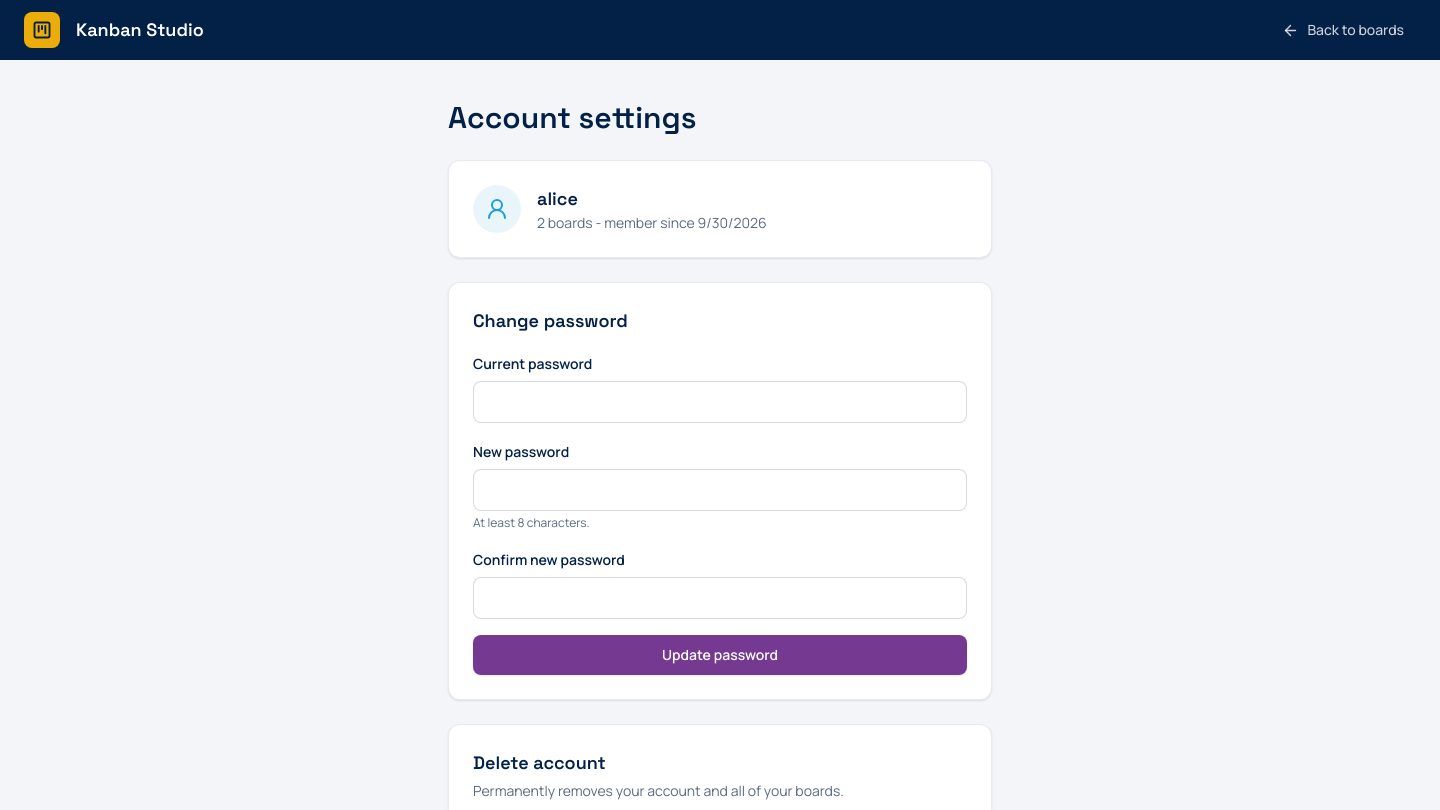
Test: AccountSettings › explains an incorrect current password
Expected: the text "alice" is shown, [537,187,578,210]
Type "wrong-password" into the password field labelled "Current password" at (720, 402), box [473,381,967,423]
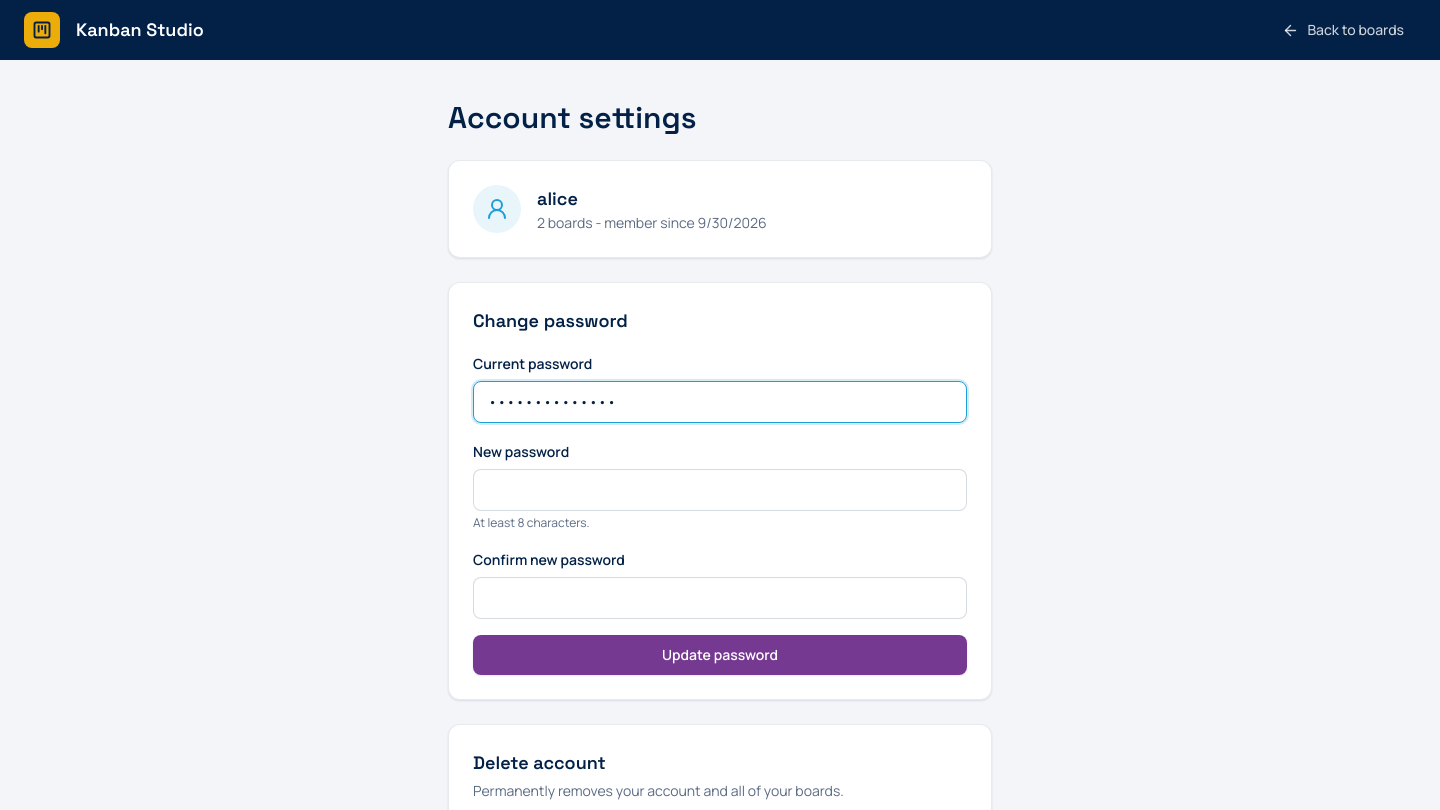
Type "new-password" into the password field labelled "New password" at (720, 490), box [473,469,967,511]
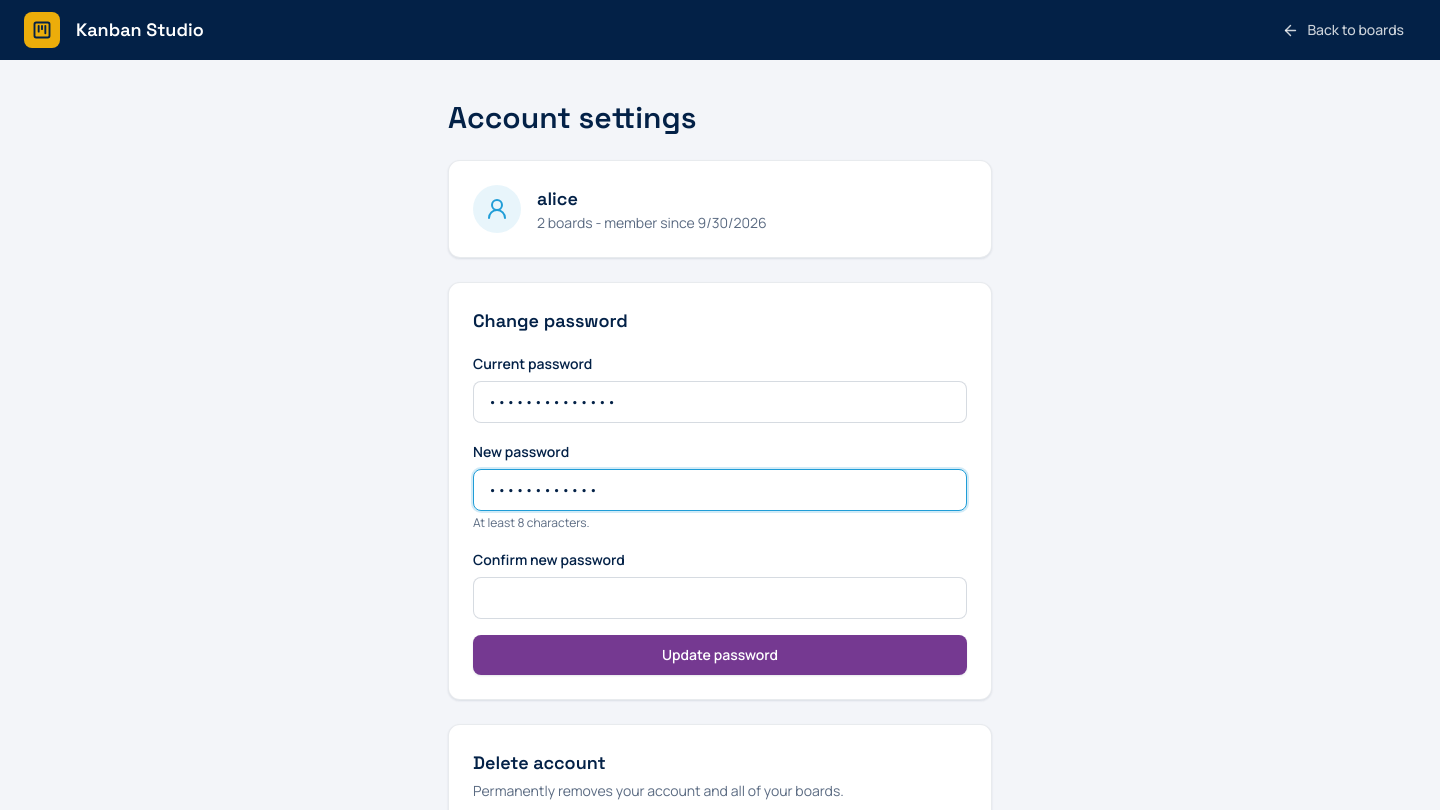
Type "new-password" into the password field labelled "Confirm new password" at (720, 598), box [473,577,967,619]
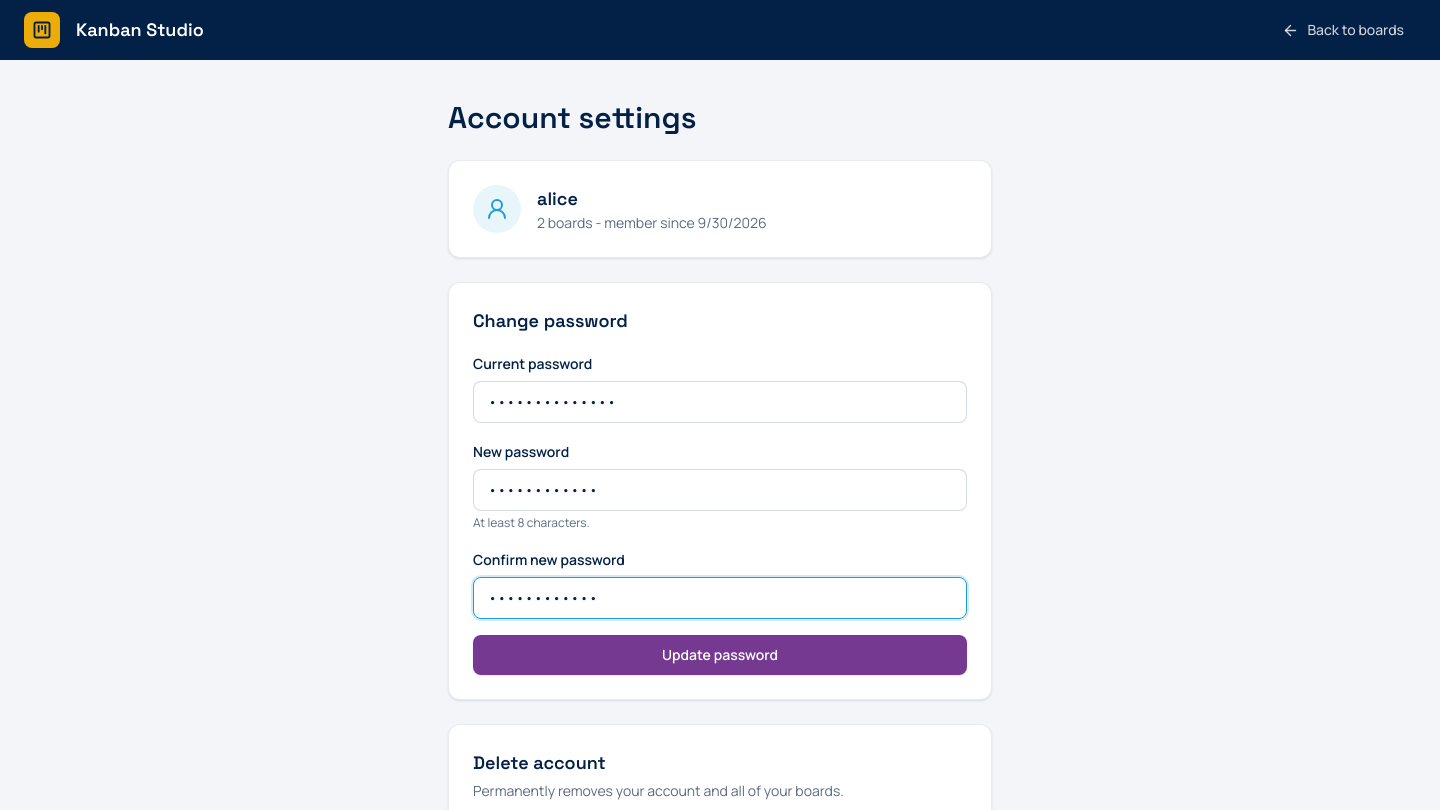
Click the button "Update password" at (720, 655), box [473,635,967,675]
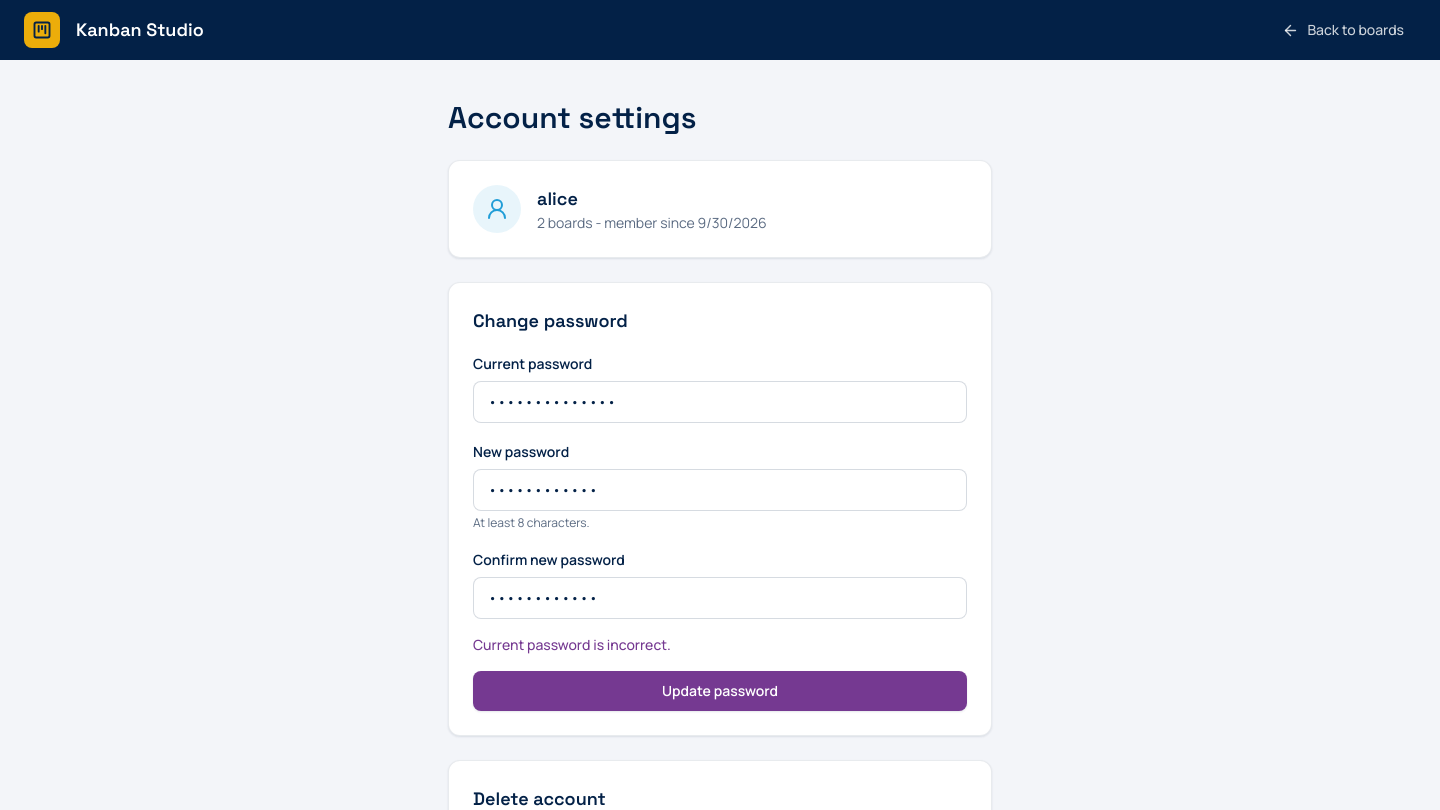
Now the message reads "Current password is incorrect.", box [473,635,671,654]
